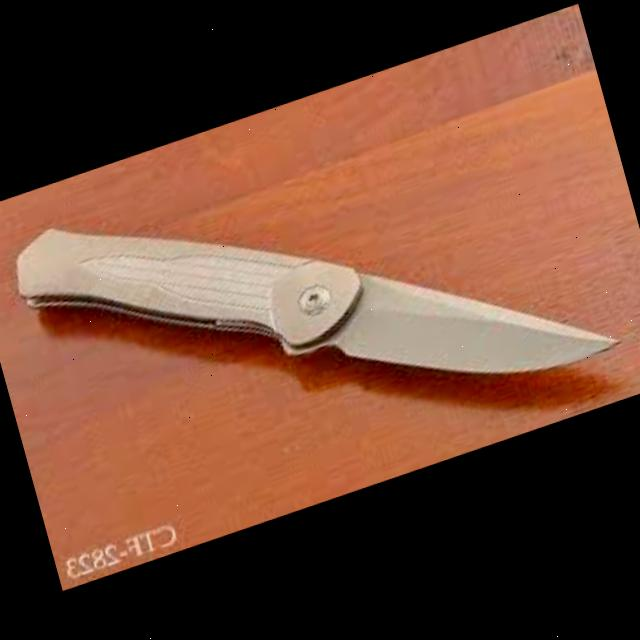Knife: (5, 58, 622, 536)
